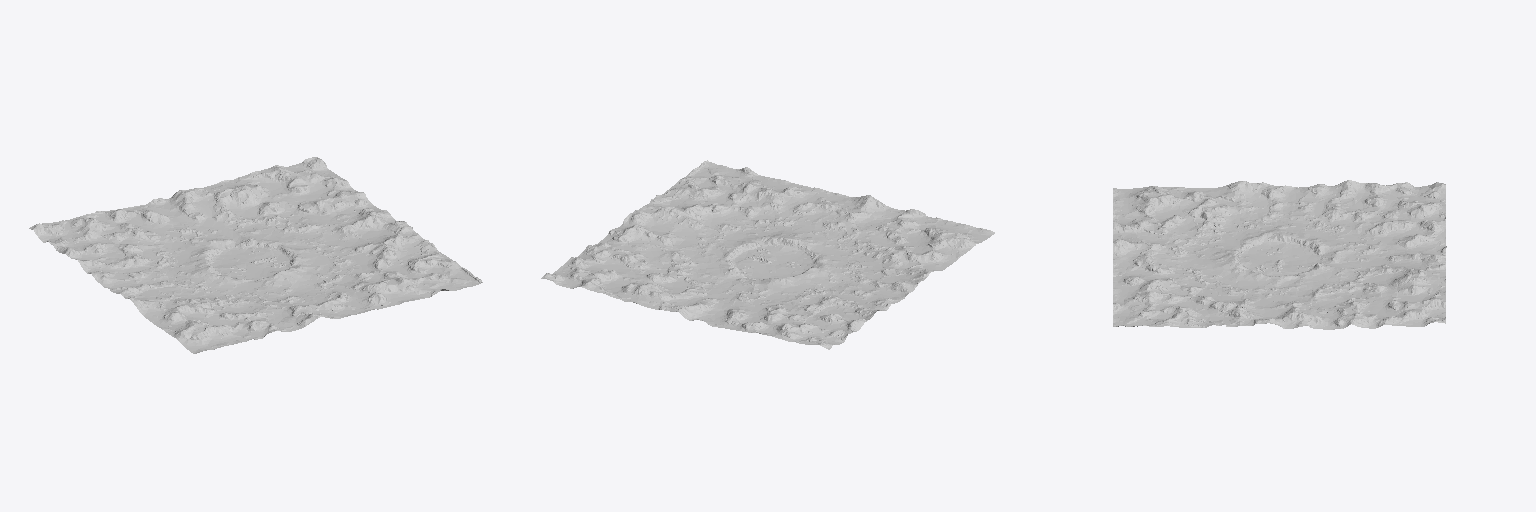
Rendered from far_world.obj.
3 renders of one model, left to right at view 1: azimuth 30°, elevation 25°; view 2: azimuth 150°, elevation 25°; view 3: azimuth 270°, elevation 25°, orthographic.
Visible parts, largest first — view 1: TerrainMesh; view 2: TerrainMesh; view 3: TerrainMesh.
Part boxes in pixels (left/top/right/bottom): TerrainMesh: left=29, top=157, right=482, bottom=353; TerrainMesh: left=541, top=160, right=994, bottom=349; TerrainMesh: left=1113, top=180, right=1446, bottom=329.
Bounding box in the file's own units: 5 × 0.2248 × 5.